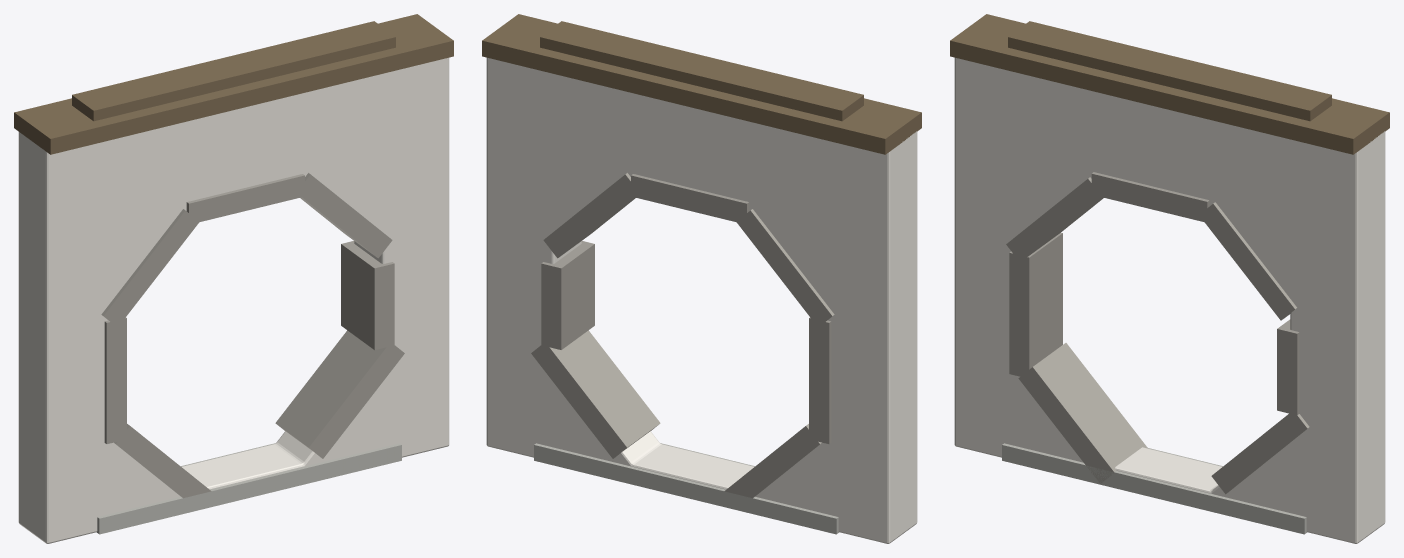
The model's file is octagon-gate.glb.
3 renders of one model, left to right at view 1: azimuth 30°, elevation 25°; view 2: azimuth 150°, elevation 25°; view 3: azimuth 330°, elevation 25°, orthographic.
Visible parts, largest first — view 1: Wall, Coping, Ridge, Threshold, Voussoir.015, Voussoir.016, Voussoir.019, Voussoir.018, Voussoir.017, Voussoir.006, Voussoir.008, Voussoir.005 (+12 smaller); view 2: Wall, Coping, Ridge, Threshold, Voussoir.015, Voussoir.016, Voussoir.019, Voussoir.018, Voussoir.017, Voussoir.007, Voussoir.008, Voussoir.004 (+12 smaller); view 3: Wall, Coping, Ridge, Threshold, Voussoir.012, Voussoir.013, Voussoir.014, Voussoir.009, Voussoir.010, Voussoir.011, Voussoir.019, Voussoir.001 (+12 smaller).
Part boxes in pixels (box(x1,y1,x2,y2)): Wall: box(18, 57, 449, 543); Coping: box(14, 14, 453, 154); Ridge: box(72, 21, 395, 121); Threshold: box(97, 443, 401, 534); Voussoir.015: box(275, 387, 350, 458); Voussoir.016: box(302, 353, 376, 424); Voussoir.019: box(341, 241, 394, 309); Voussoir.018: box(341, 284, 394, 349); Voussoir.017: box(329, 330, 404, 389); Voussoir.006: box(155, 209, 198, 258); Voussoir.008: box(101, 278, 145, 327); Voussoir.005: box(186, 192, 229, 224); Wall: box(486, 57, 917, 543); Coping: box(482, 14, 921, 154); Ridge: box(540, 21, 863, 121); Threshold: box(534, 443, 838, 534); Voussoir.015: box(584, 387, 660, 458); Voussoir.016: box(558, 352, 633, 421); Voussoir.019: box(541, 241, 594, 310); Voussoir.018: box(541, 284, 594, 349); Voussoir.017: box(531, 330, 606, 389); Voussoir.007: box(763, 245, 805, 292); Voussoir.008: box(791, 278, 834, 327); Voussoir.004: box(669, 183, 709, 215); Wall: box(954, 57, 1385, 543); Coping: box(950, 14, 1389, 154); Ridge: box(1008, 21, 1331, 121); Threshold: box(1002, 443, 1306, 534); Voussoir.012: box(1018, 343, 1093, 414); Voussoir.013: box(1046, 377, 1120, 449); Voussoir.014: box(1072, 413, 1147, 483); Voussoir.009: box(1009, 232, 1062, 299); Voussoir.010: box(1009, 273, 1062, 338); Voussoir.011: box(1009, 315, 1062, 378); Voussoir.019: box(1277, 319, 1299, 375); Voussoir.001: box(1226, 238, 1268, 285).
Bounding box in the file's own units: 3.2 × 3.18 × 0.5.
